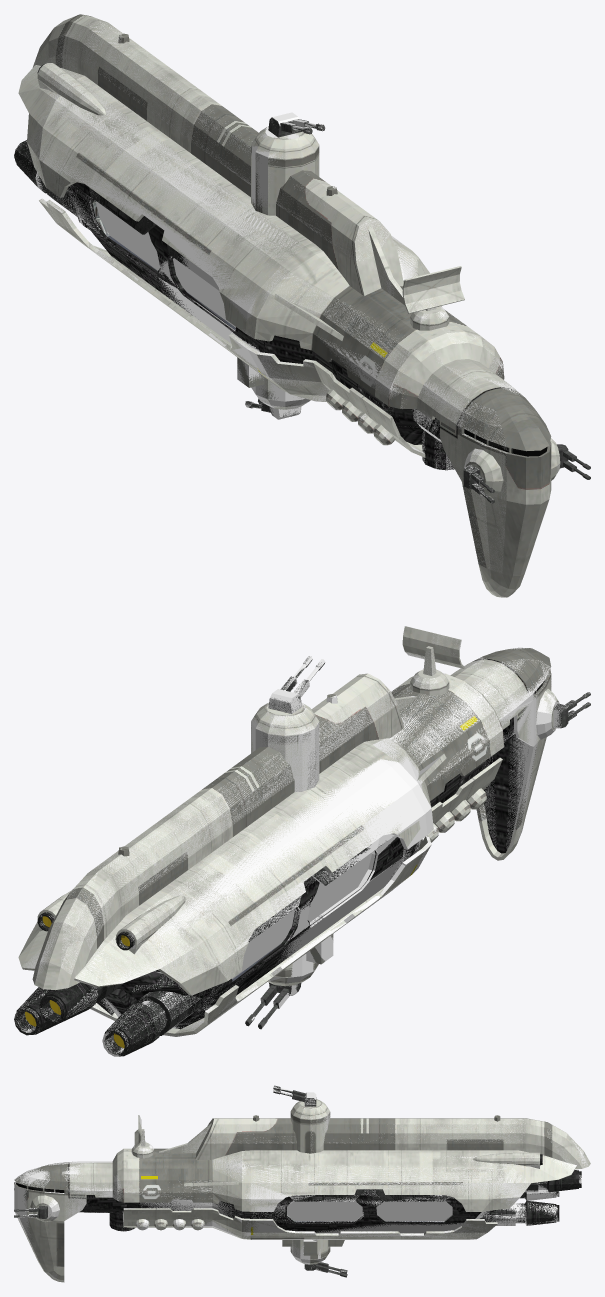
Rendered from Republic_Troop_Transport.obj.
3 views of the same model, one above another, from view 1: azimuth 30°, elevation 25°; view 2: azimuth 150°, elevation 25°; view 3: azimuth 270°, elevation 25° (orthographic). The views are drawn at different scales.
Visible parts, largest first — view 1: Hull, Shadow, shield; view 2: Hull, Shadow, shield; view 3: Hull, Shadow, shield.
Part boxes in pixels (bbox=[...]): Hull: bbox=[14, 14, 590, 597]; Shadow: bbox=[14, 17, 560, 572]; shield: bbox=[96, 201, 235, 327]; Hull: bbox=[14, 626, 590, 1056]; Shadow: bbox=[14, 634, 590, 1056]; shield: bbox=[231, 853, 371, 978]; Hull: bbox=[14, 1085, 590, 1282]; Shadow: bbox=[14, 1086, 587, 1280]; shield: bbox=[287, 1201, 452, 1221].
Size of the model in its own units: 85.64 by 151 by 406.
